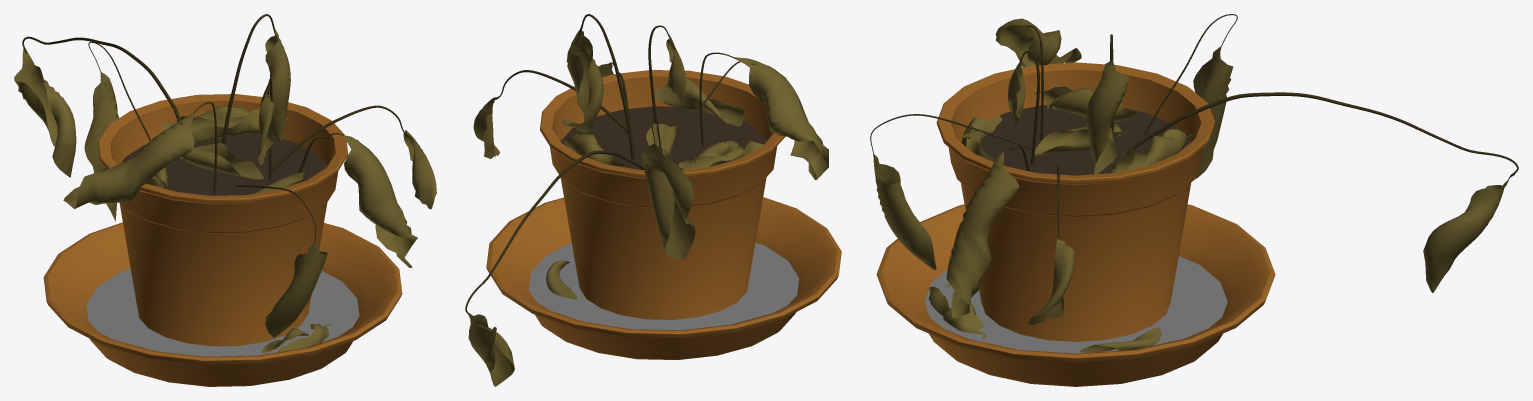
Rendered from AP_Plant02_HB.fbx.
3 renders of one model, left to right at view 1: azimuth 30°, elevation 25°; view 2: azimuth 150°, elevation 25°; view 3: azimuth 270°, elevation 25°, orthographic. The views are drawn at different scales.
Visible parts, largest first — view 1: pCylinder13, pDisc59, pDisc42, pDisc40; view 2: pCylinder13, pDisc59, pDisc42, pDisc40; view 3: pCylinder13, pDisc59, pDisc42, pDisc40.
Part boxes in pixels (x1,y1,x2,y2): pCylinder13: (43,94,402,386); pDisc59: (14,14,436,353); pDisc42: (86,268,359,356); pDisc40: (122,133,327,195); pCylinder13: (486,70,841,359); pDisc59: (465,14,828,386); pDisc42: (529,242,799,330); pDisc40: (560,106,766,169); pCylinder13: (876,62,1275,386); pDisc59: (870,14,1518,352); pDisc42: (924,256,1227,353); pDisc40: (961,105,1190,175).
Size of the model in its own units: 1.01 by 0.7882 by 1.44.
